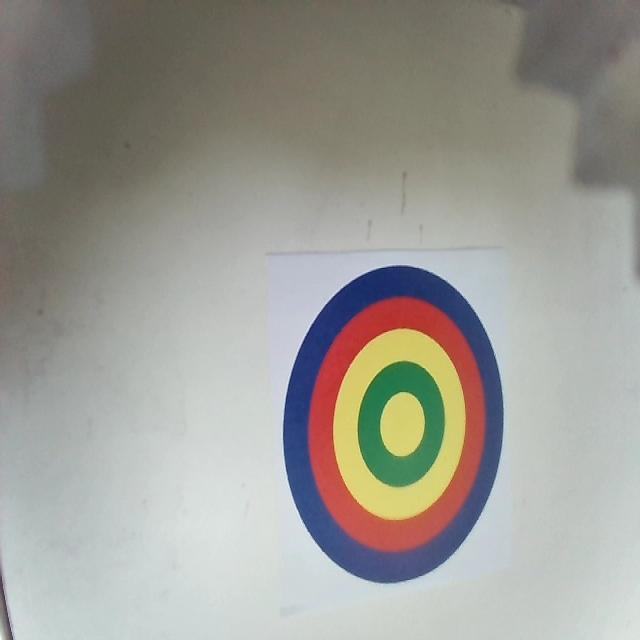cogn: (282, 263, 504, 586)
